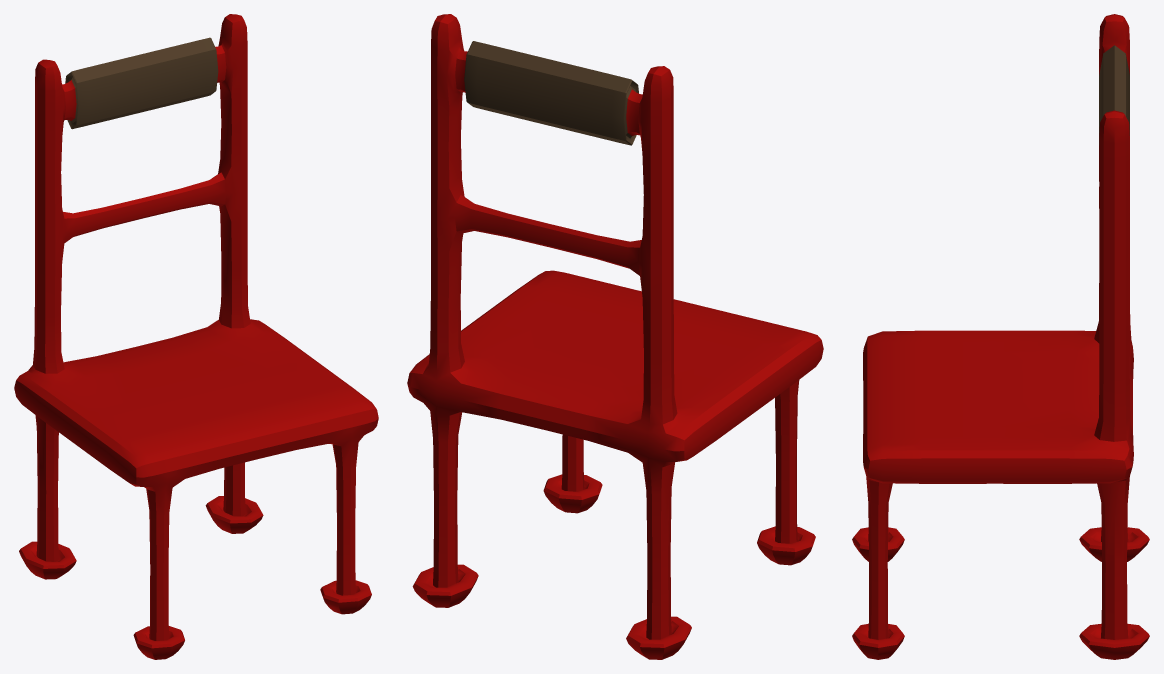
Rendered from chair4.fbx.
The picture shows the model from 3 angles, left to right: view 1: azimuth 30°, elevation 25°; view 2: azimuth 150°, elevation 25°; view 3: azimuth 270°, elevation 25°; orthographic projection. The views are drawn at different scales.
Visible parts, largest first — view 1: Chair4; view 2: Chair4; view 3: Chair4.
Boxes of the visible parts, x1,y1,x2,y2 form: Chair4: [14, 14, 378, 659]; Chair4: [407, 14, 823, 659]; Chair4: [852, 14, 1149, 659].
Size of the model in its own units: 52.03 by 103 by 51.21.
